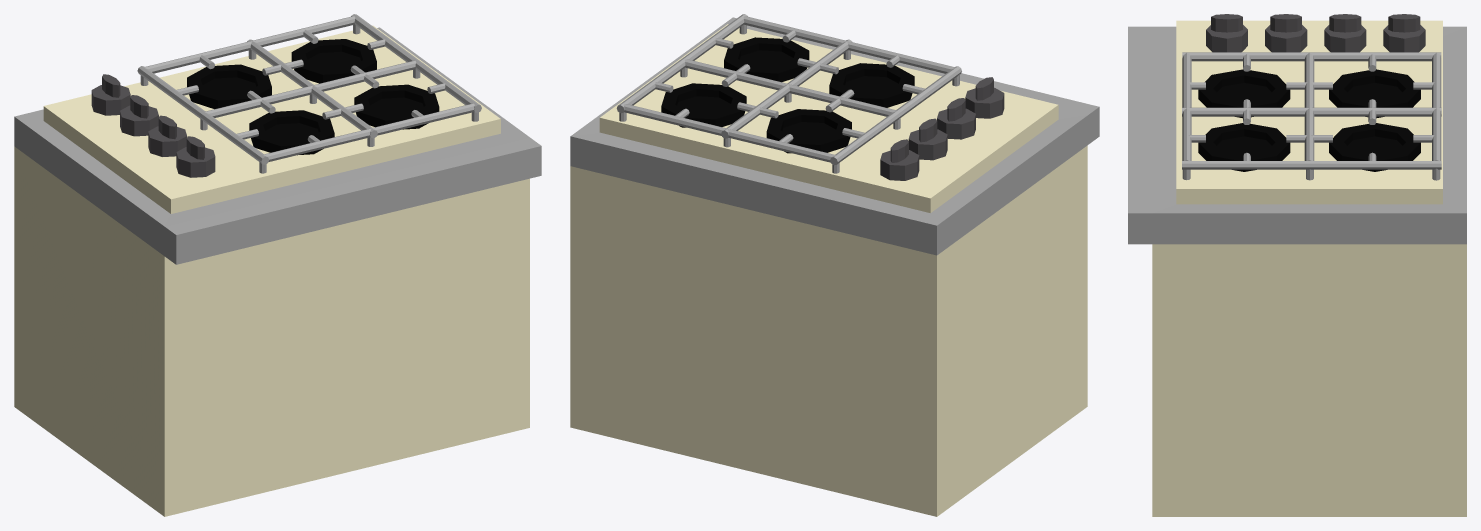
Rendered from herd.fbx.
3 views of the same model, side by side, from view 1: azimuth 30°, elevation 25°; view 2: azimuth 150°, elevation 25°; view 3: azimuth 270°, elevation 25° (orthographic). The views are drawn at different scales.
Visible parts, largest first — view 1: Cube.006, Cylinder.008; view 2: Cube.006, Cylinder.008; view 3: Cube.006, Cylinder.008.
Part boxes in pixels (bbox=[...]): Cube.006: bbox=[14, 14, 541, 516]; Cylinder.008: bbox=[91, 74, 215, 177]; Cube.006: bbox=[570, 14, 1099, 516]; Cylinder.008: bbox=[880, 77, 1004, 180]; Cube.006: bbox=[1128, 20, 1466, 516]; Cylinder.008: bbox=[1206, 14, 1425, 52].
Bounding box in the file's own units: 281 × 244 × 216.
